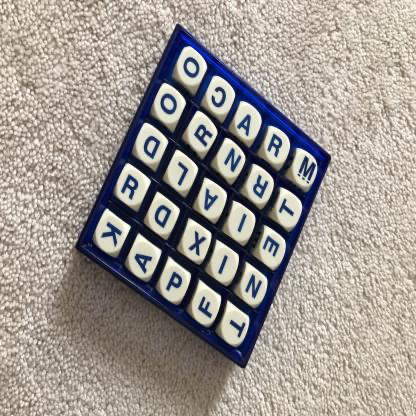a: (130, 241, 158, 280), (235, 104, 262, 142), (199, 185, 225, 220)
c: (207, 80, 236, 118)
d: (136, 128, 166, 166), (149, 198, 178, 236)
e: (260, 233, 286, 267)
f: (192, 286, 221, 327)
i: (212, 247, 239, 284), (228, 207, 255, 242)
k: (97, 215, 127, 255)
l: (168, 154, 197, 194)
m: (294, 155, 320, 189)
n: (217, 142, 245, 181), (241, 269, 268, 306)
o: (177, 46, 207, 88), (154, 87, 184, 126)
p: (161, 265, 190, 304)
r: (119, 168, 149, 207), (247, 168, 275, 208), (264, 128, 292, 166), (188, 116, 216, 153)
t: (275, 193, 303, 230), (222, 309, 250, 346)
x: (183, 224, 211, 261)
